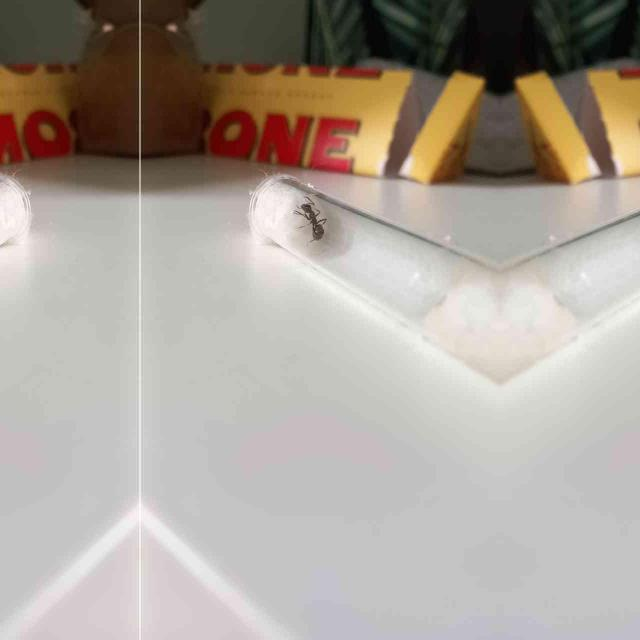Formica: (288, 195, 328, 247)
